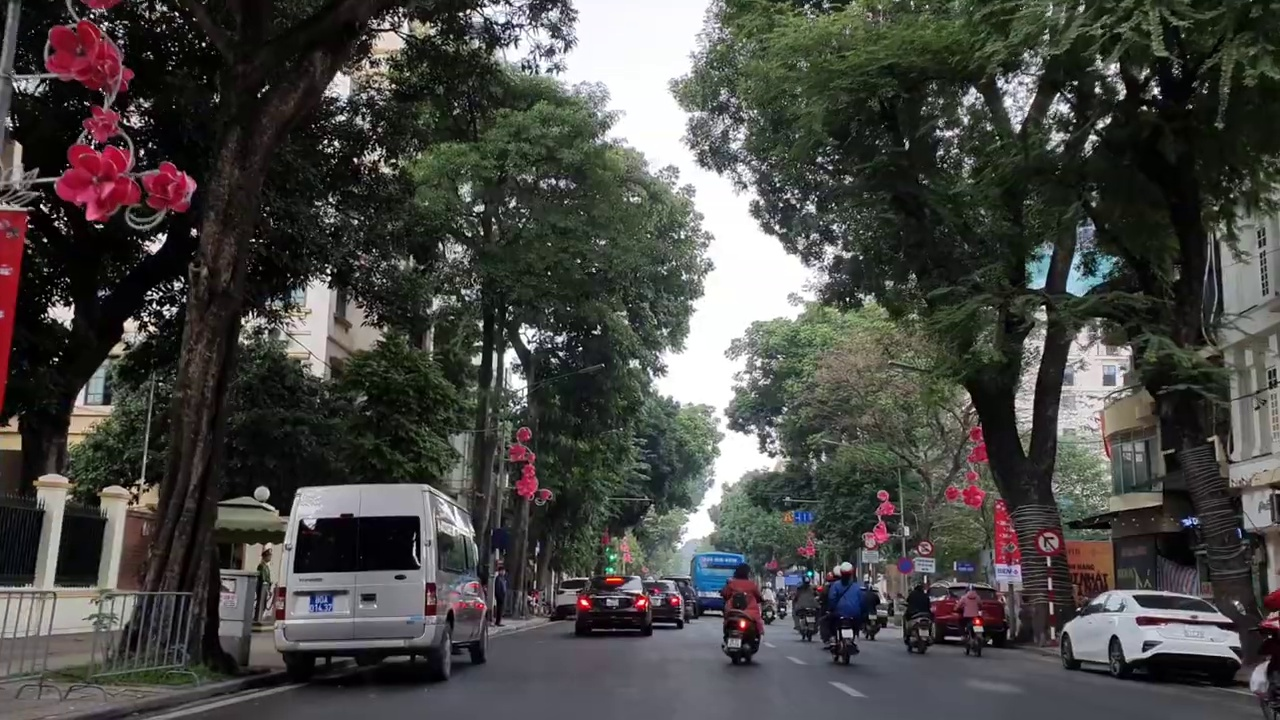person: (307, 591, 333, 614)
